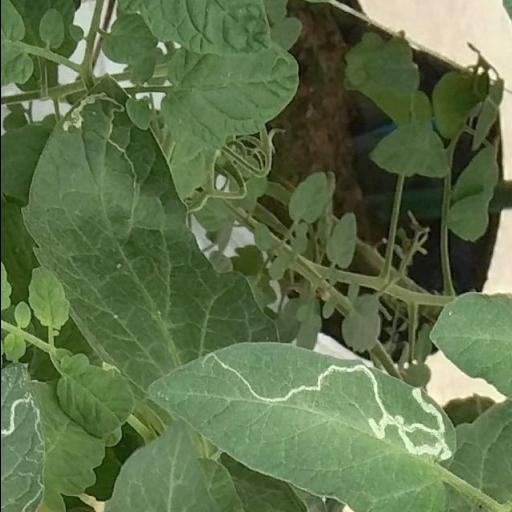Leaf Miner: (142, 340, 454, 512)
